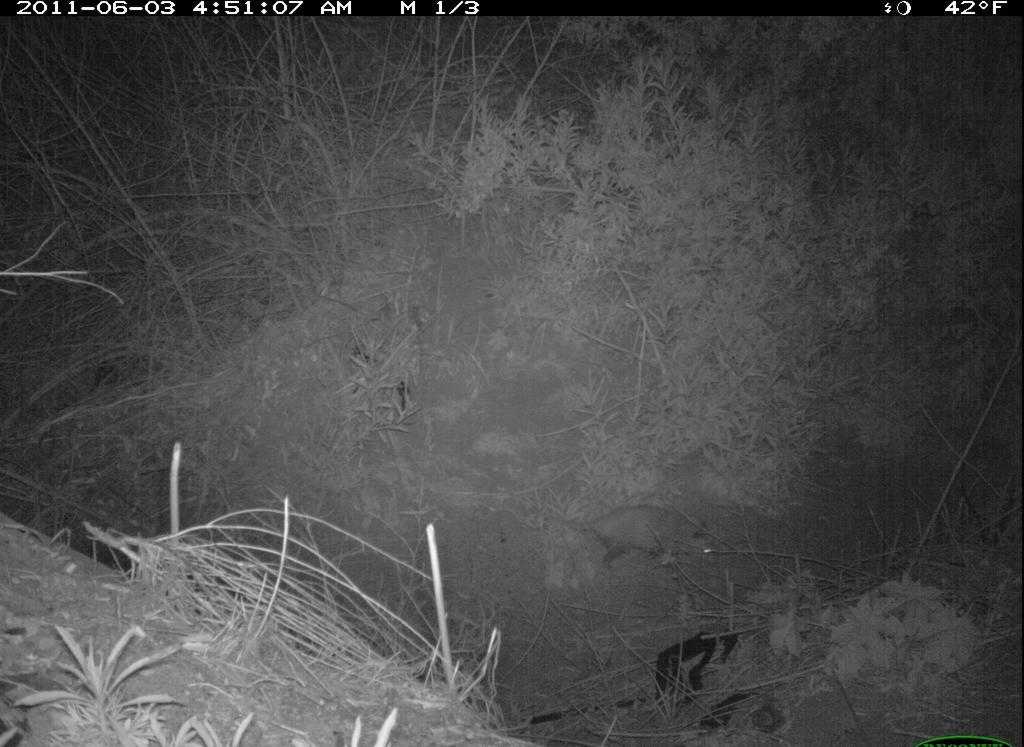opossum: (566, 498, 725, 571)
